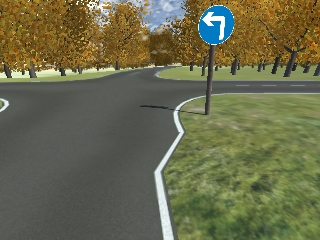left: (199, 5, 235, 43)
